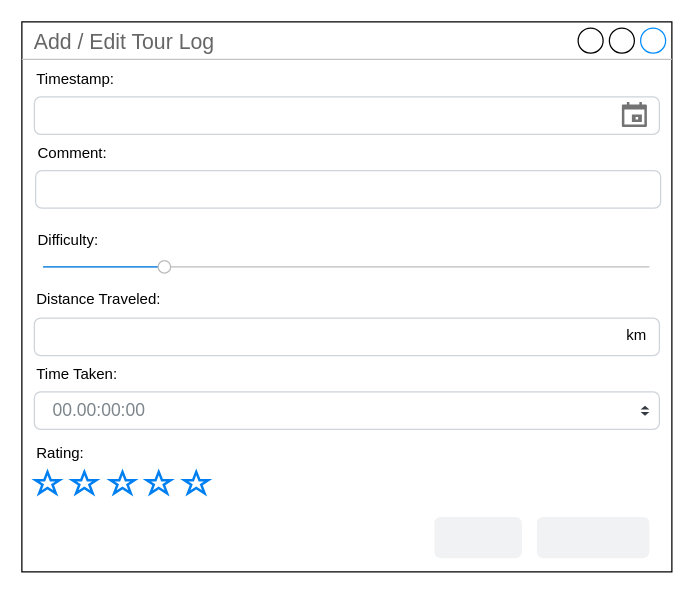
Some shapes in this 694 by 594 pixel diagram are drawn without their labels. Each missing label, with the centre of its shape:
Cancel: the point at 592,537
Save: the point at 477,537
